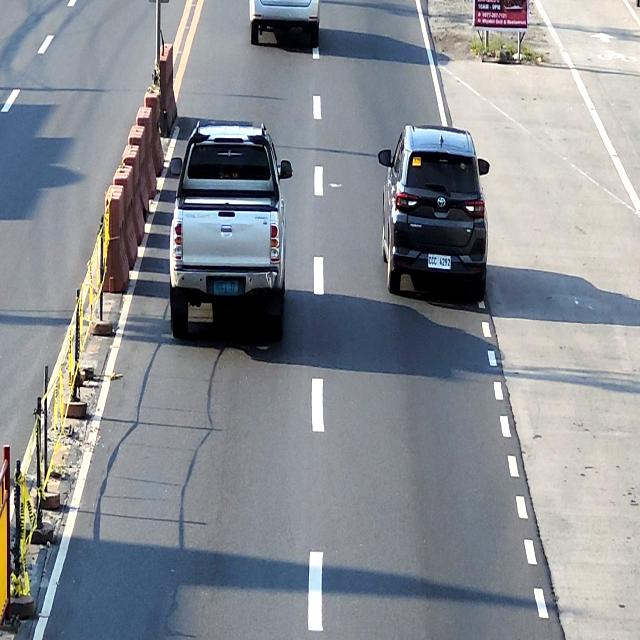Car: (169, 119, 293, 344), (378, 125, 491, 307), (248, 0, 321, 44)
License-Plate: (214, 281, 238, 297), (427, 254, 451, 270)
